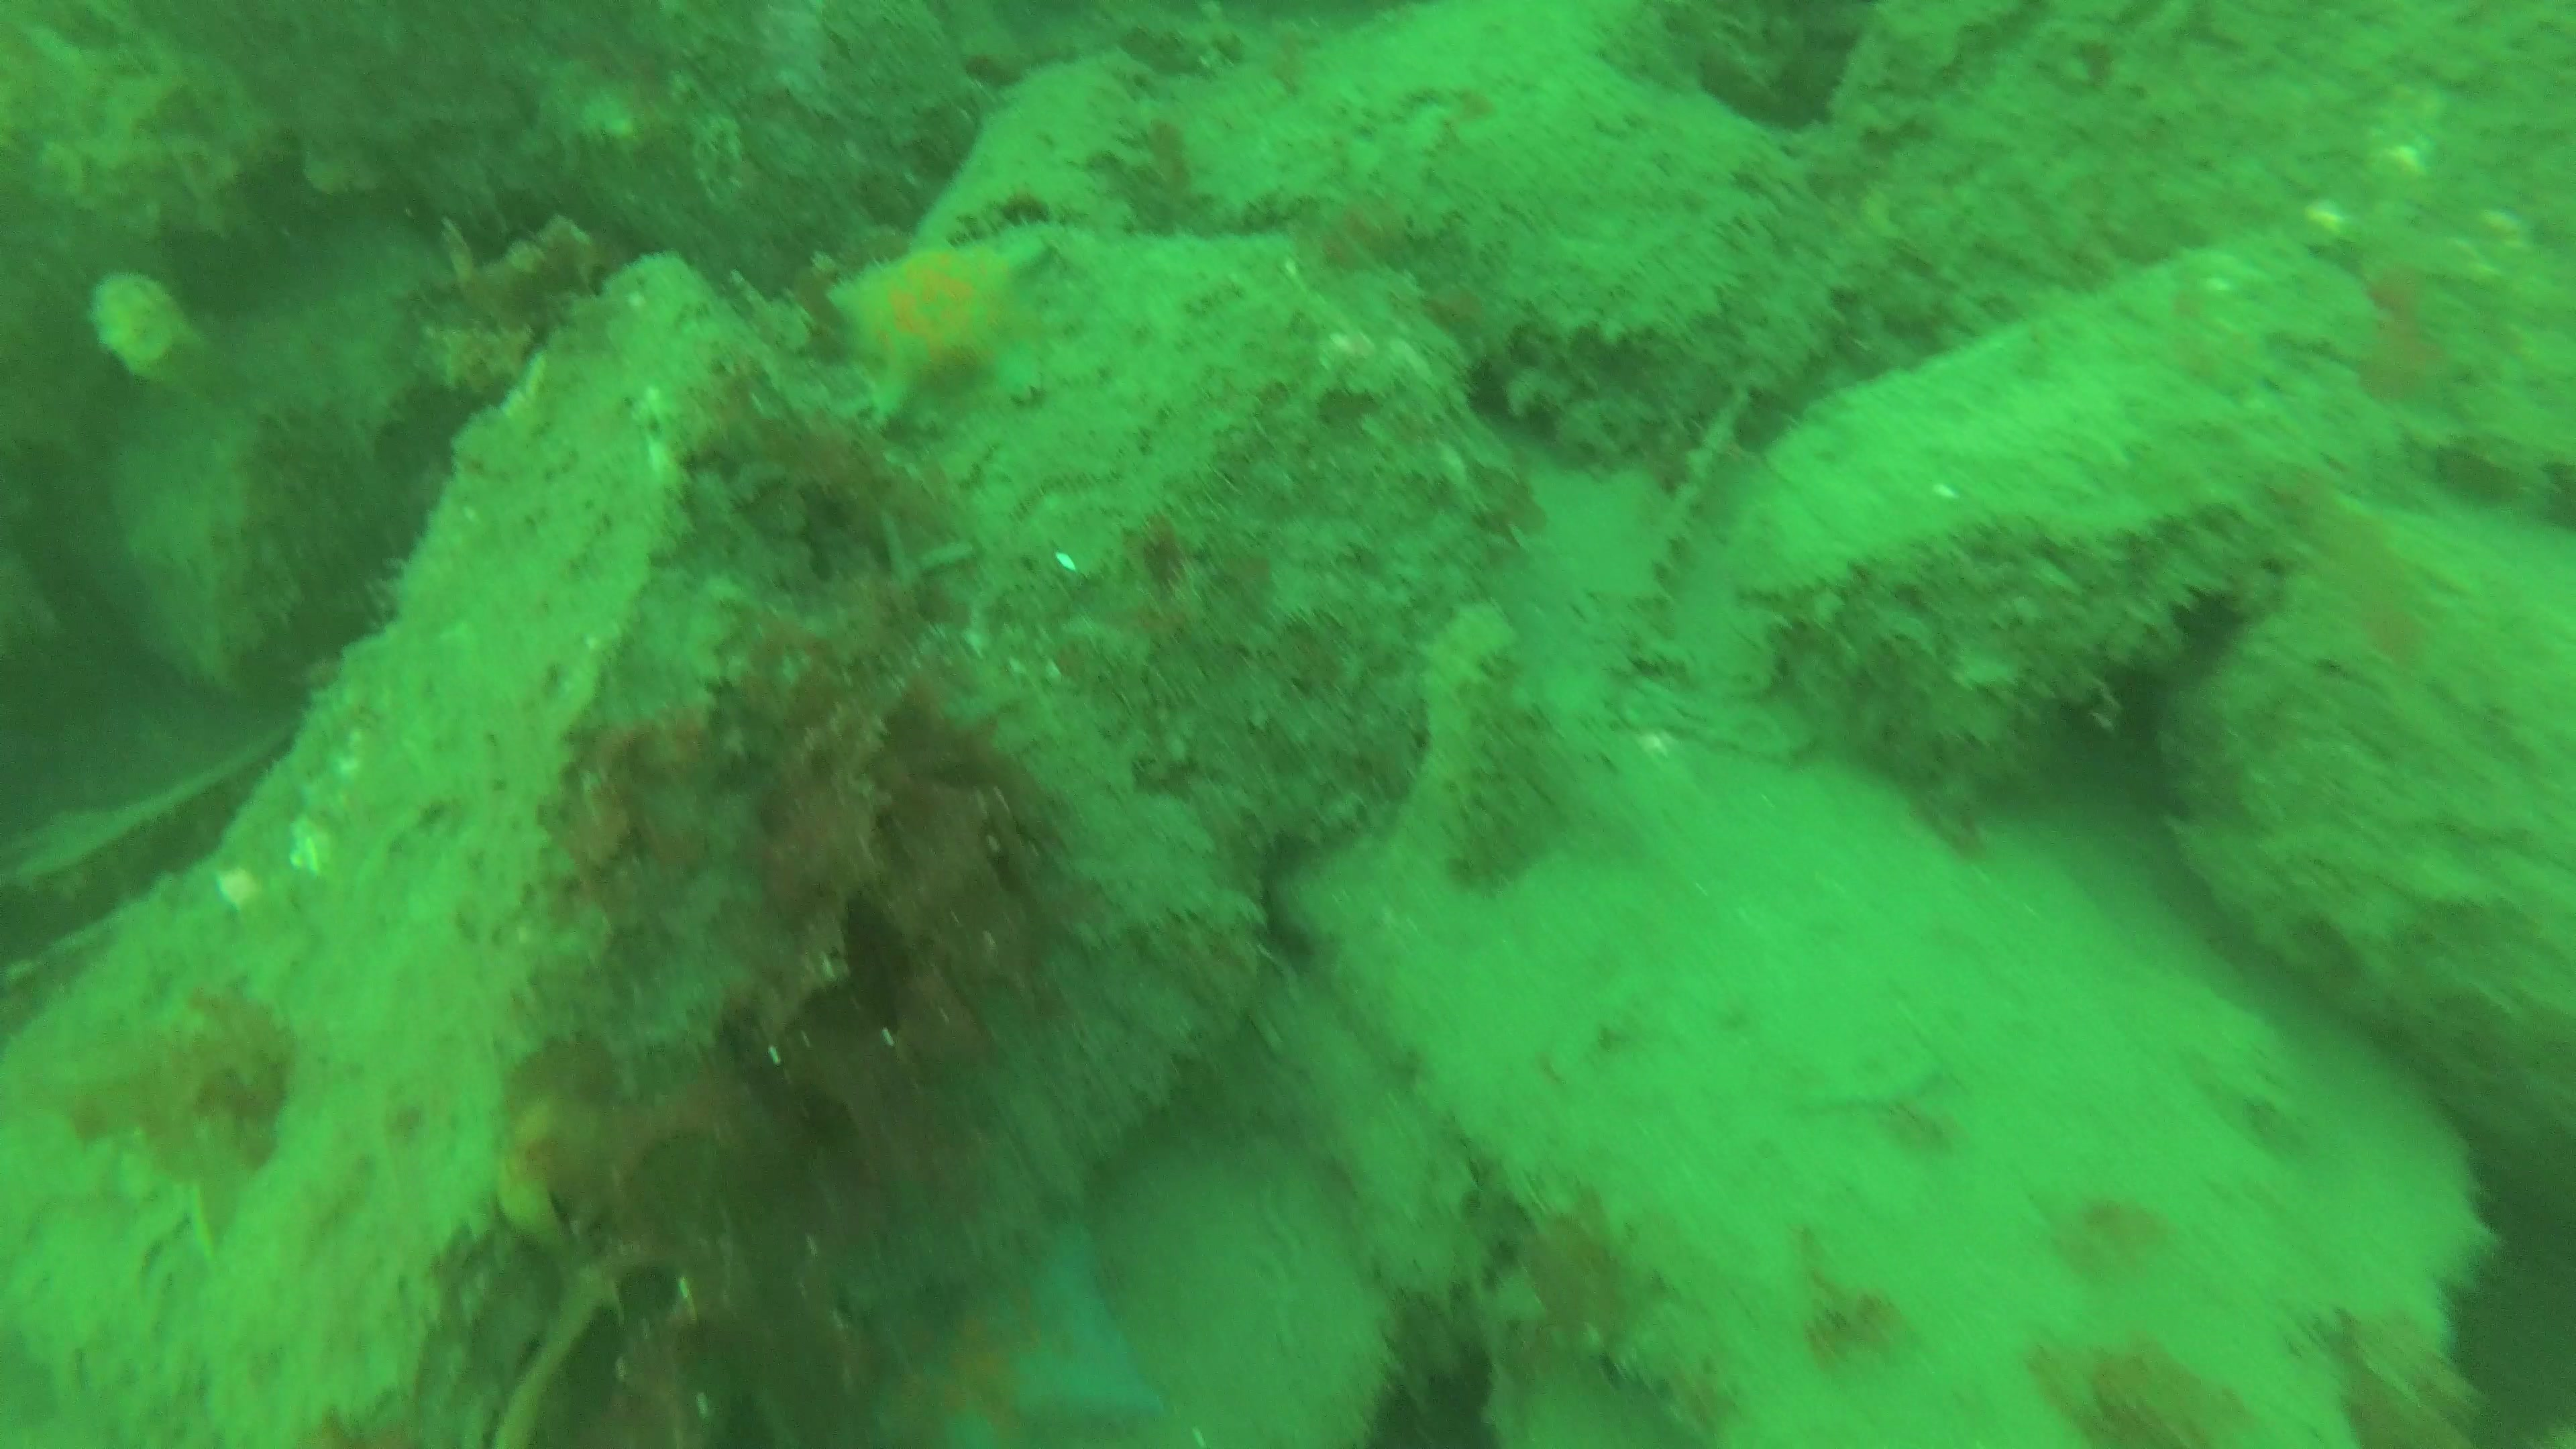starfish: (842, 1219, 1161, 1449), (828, 239, 1053, 437)
